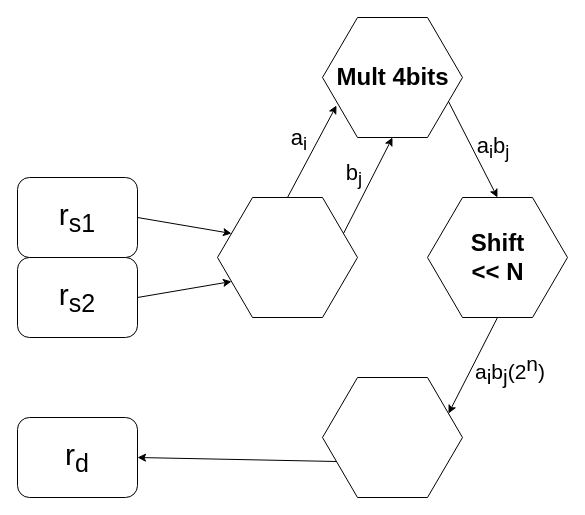
Image size: 585x515. Some labels were removed from this diagram. Each missing label, with the centre of its shape:
"Accumulator" goes at pixel 392 437.
"MUX 32 -4 bits" goes at pixel 287 257.
